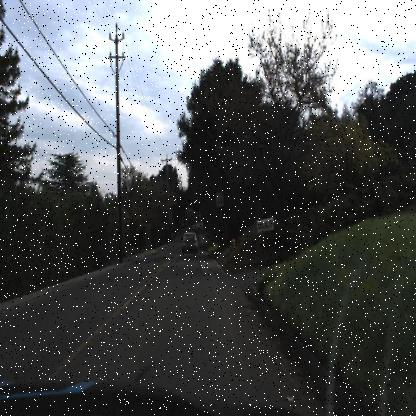car: (178, 229, 202, 257)
